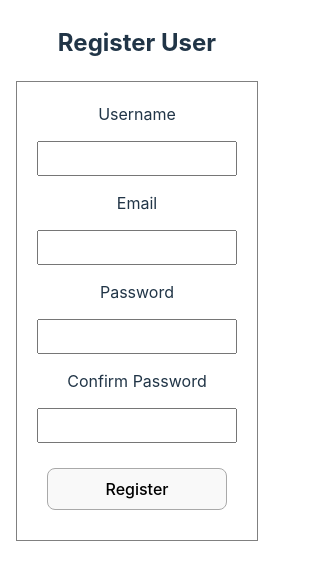
Test: Register Component › successfully registers a user and shows success message
The width and height of the screenshot is (320, 572).
Type "testuser" into the field labelled "Username" at (137, 159), box [37,141,237,176]
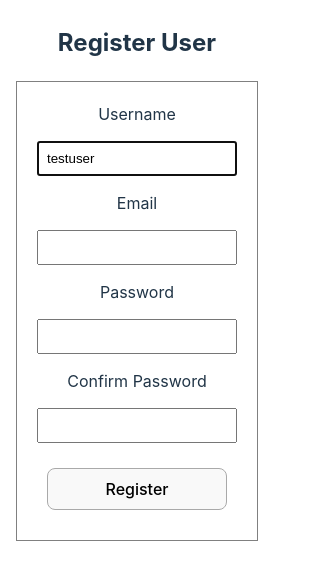
Type "test@example.com" into the field labelled "Email" at (137, 248), box [37,230,237,265]
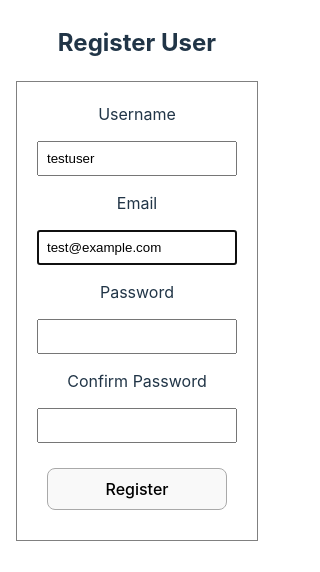
Type "password123" into the password field labelled "Password" at (137, 337), box [37,319,237,354]
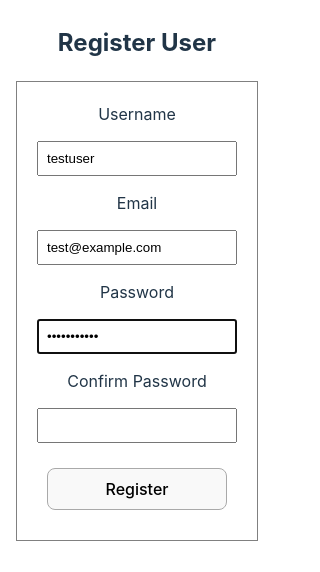
Type "password123" into the password field labelled "Confirm Password" at (137, 426), box [37,408,237,443]
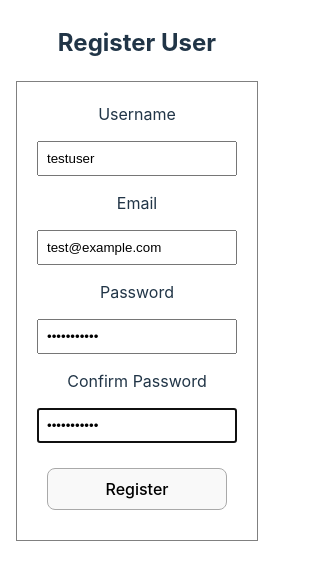
Click the button "Register" at (137, 489), box [47,468,227,510]
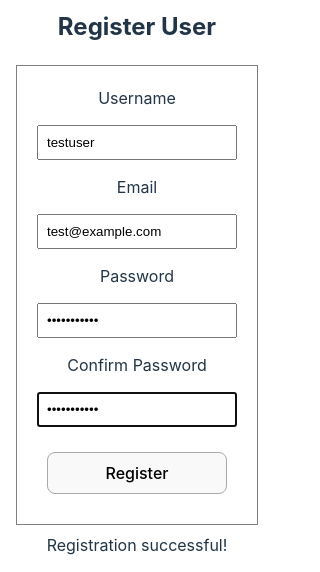
Expected: the text "Registration successful!" is shown, [47,534,227,554]
